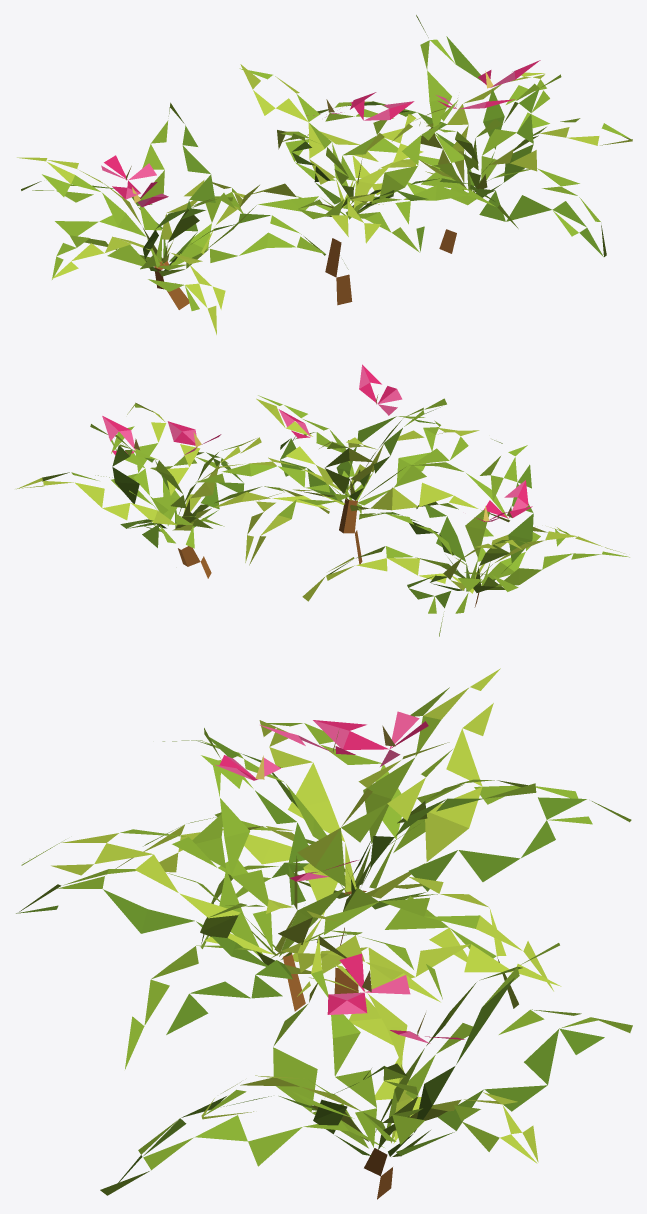
Rendered from lod_nmg_plant_a_flor.glb.
The picture shows the model from 3 angles, top to bottom: view 1: azimuth 30°, elevation 25°; view 2: azimuth 150°, elevation 25°; view 3: azimuth 270°, elevation 25°; orthographic projection. The views are drawn at different scales.
Parts seen in each view (by area): view 1: nmg_plant_a_flor; view 2: nmg_plant_a_flor; view 3: nmg_plant_a_flor.
Part boxes in pixels (box(x1,y1,x2,y2)): nmg_plant_a_flor: box(17, 15, 632, 334); nmg_plant_a_flor: box(16, 364, 629, 636); nmg_plant_a_flor: box(16, 668, 632, 1199).
Bounding box in the file's own units: 1.48 × 0.5459 × 0.8824.
